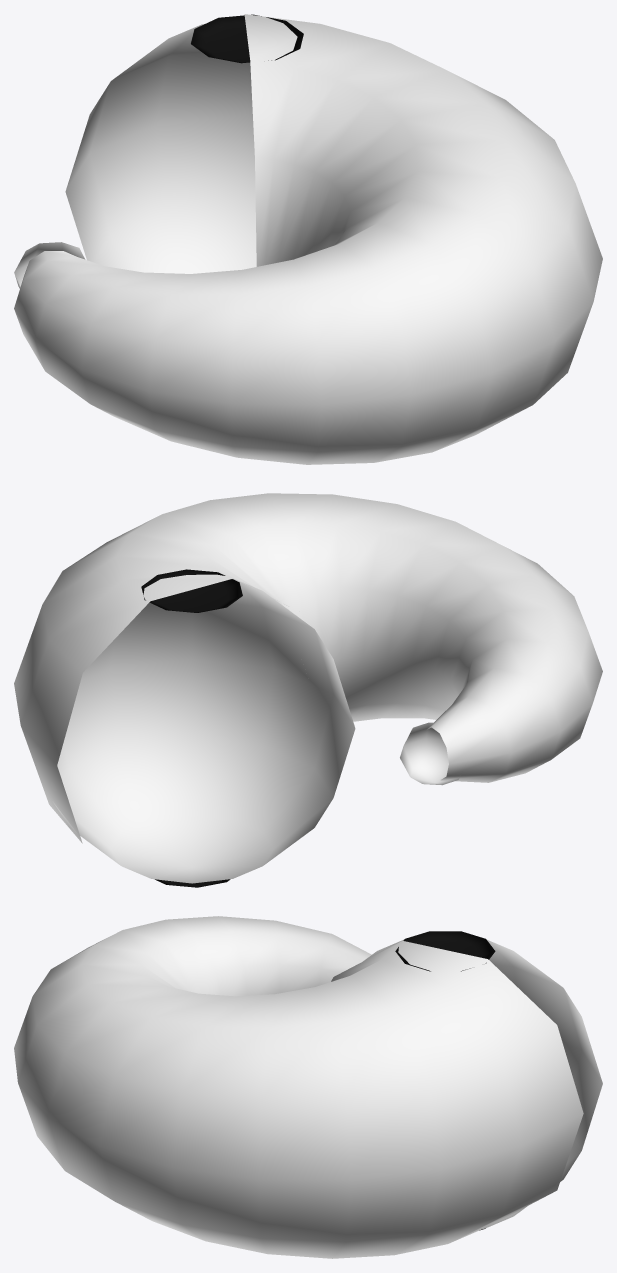
Rendered from magatama.gltf.
3 renders of one model, top to bottom at view 1: azimuth 30°, elevation 25°; view 2: azimuth 150°, elevation 25°; view 3: azimuth 270°, elevation 25°, orthographic. The views are drawn at different scales.
Parts seen in each view (by area): view 1: Magatama; view 2: Magatama; view 3: Magatama.
Boxes of the visible parts, x1,y1,x2,y2 form: Magatama: (14,14,602,464); Magatama: (14,493,602,887); Magatama: (14,916,602,1258).
Bounding box in the file's own units: 1.13 × 0.648 × 1.23.
1 material, 1 textured.
